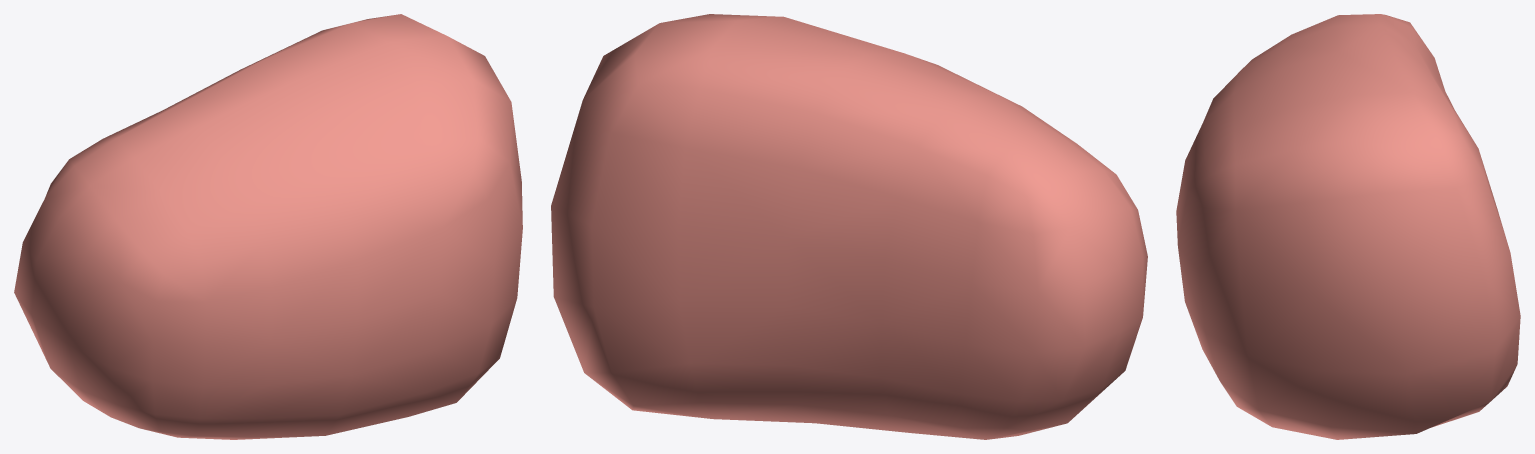
File: mixamo_humanoid_surface_rightHandMiddle3.fbx
3 renders of one model, left to right at view 1: azimuth 30°, elevation 25°; view 2: azimuth 150°, elevation 25°; view 3: azimuth 270°, elevation 25°, orthographic. The views are drawn at different scales.
Parts seen in each view (by area): view 1: surface_RightHandMiddle3; view 2: surface_RightHandMiddle3; view 3: surface_RightHandMiddle3.
Part boxes in pixels (box(x1,y1,x2,y2)): surface_RightHandMiddle3: box(14, 14, 522, 439); surface_RightHandMiddle3: box(551, 14, 1147, 439); surface_RightHandMiddle3: box(1176, 14, 1520, 439).
Bounding box in the file's own units: 2.67 × 1.79 × 1.71.
